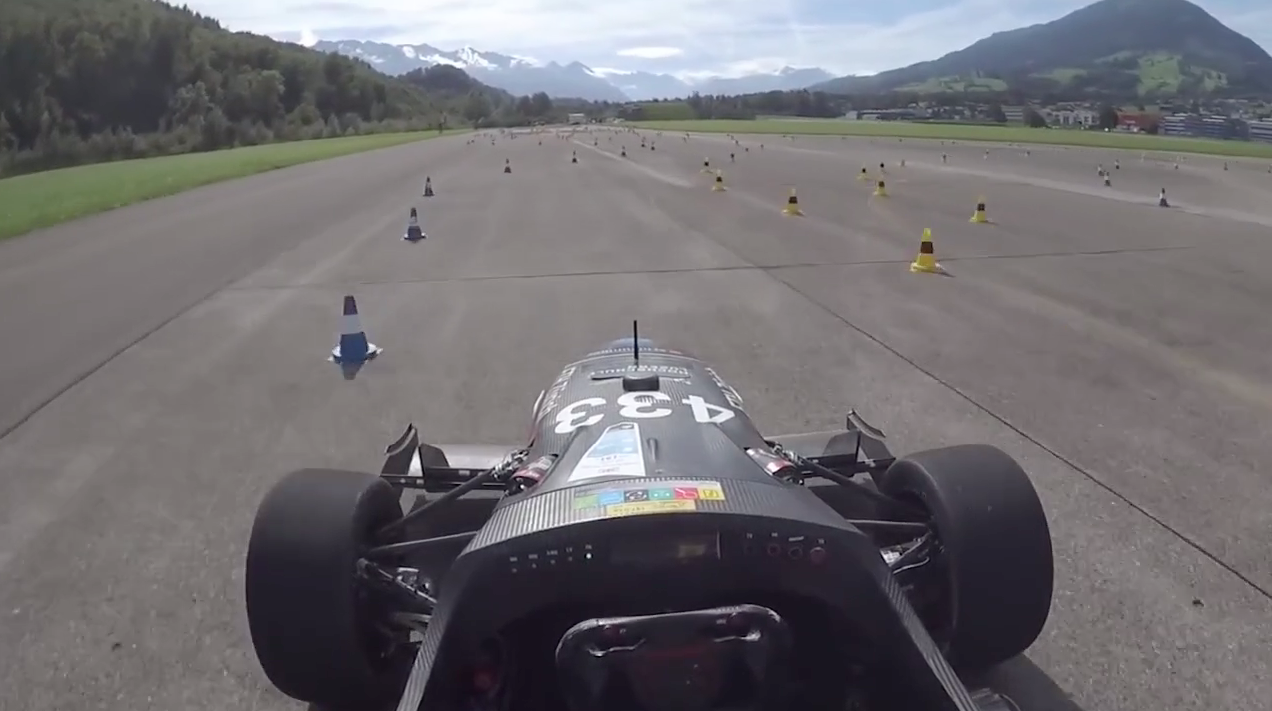lcone: (322, 289, 385, 371), (400, 202, 428, 246)
rcone: (906, 223, 950, 279), (967, 190, 995, 228), (779, 185, 806, 222)
